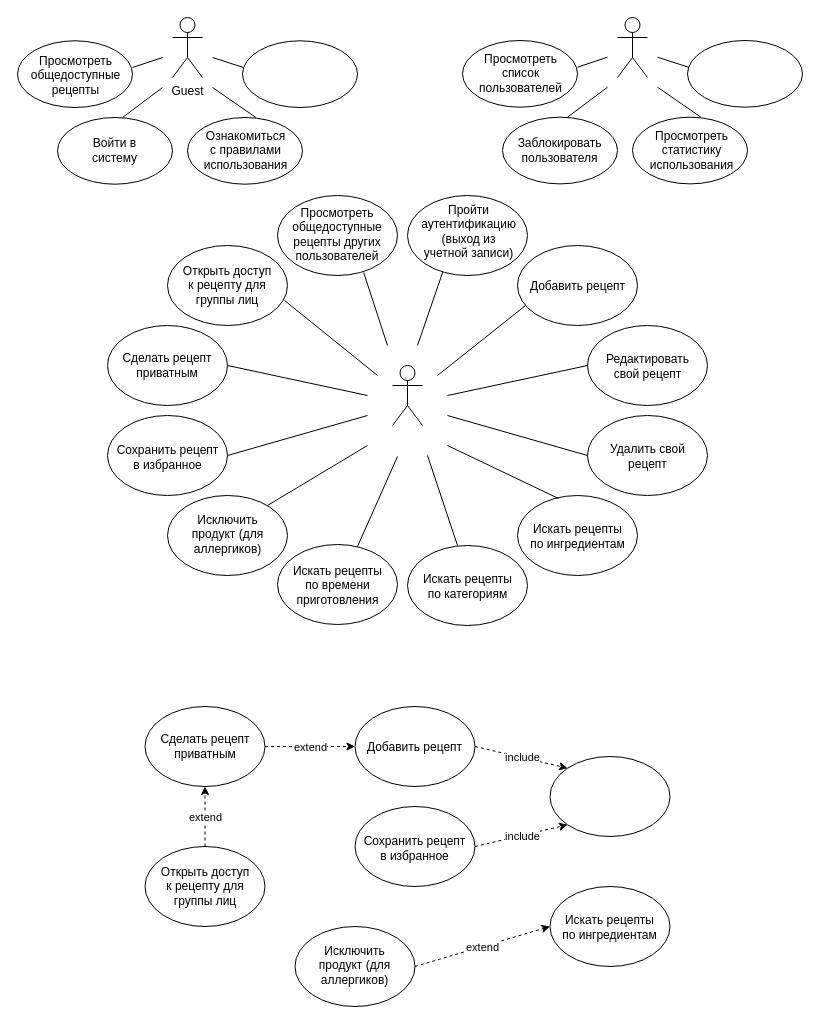
Image size: 820x1024. Some labels were removed from this diagram. The shapes that lost their labels are listed below. From the top down, each one's centre as x and y in pixels, then its label:
At (x=632, y=47): "Admin".
At (x=300, y=74): "Зарегистри-роваться".
At (x=744, y=73): "Просмотреть факт принятия правил".
At (x=407, y=395): "User".
At (x=609, y=796): "Аутентификация".
